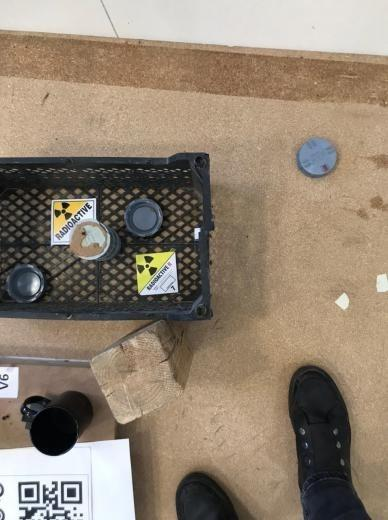radioactive: (52, 201, 99, 246), (135, 252, 181, 294)
